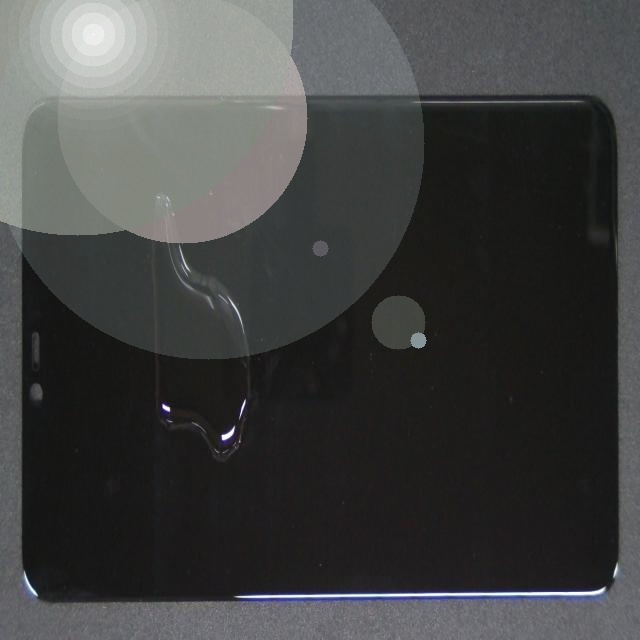oil: (154, 215, 348, 484)
